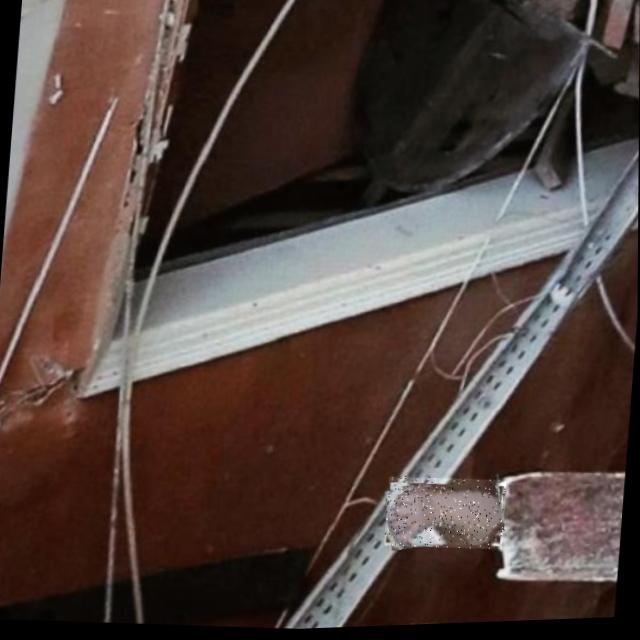Person in Rubble: (384, 473, 508, 555)
